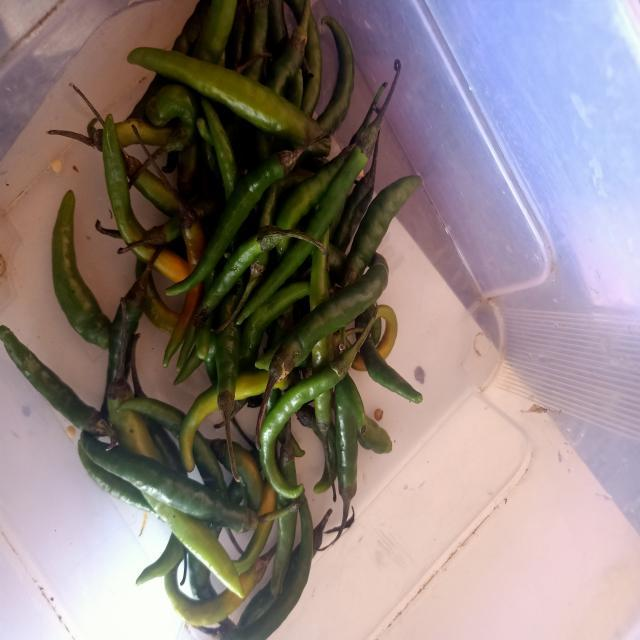Green Chilly: (127, 46, 325, 143), (167, 150, 299, 294), (259, 344, 359, 499), (269, 254, 388, 379), (0, 325, 116, 443), (51, 189, 111, 349), (189, 432, 227, 496), (124, 398, 185, 436)
